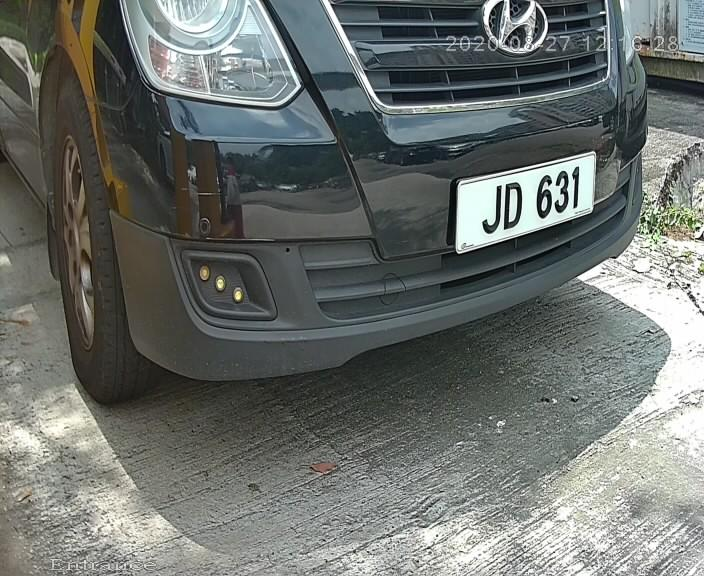License Plate: (444, 145, 604, 255)
